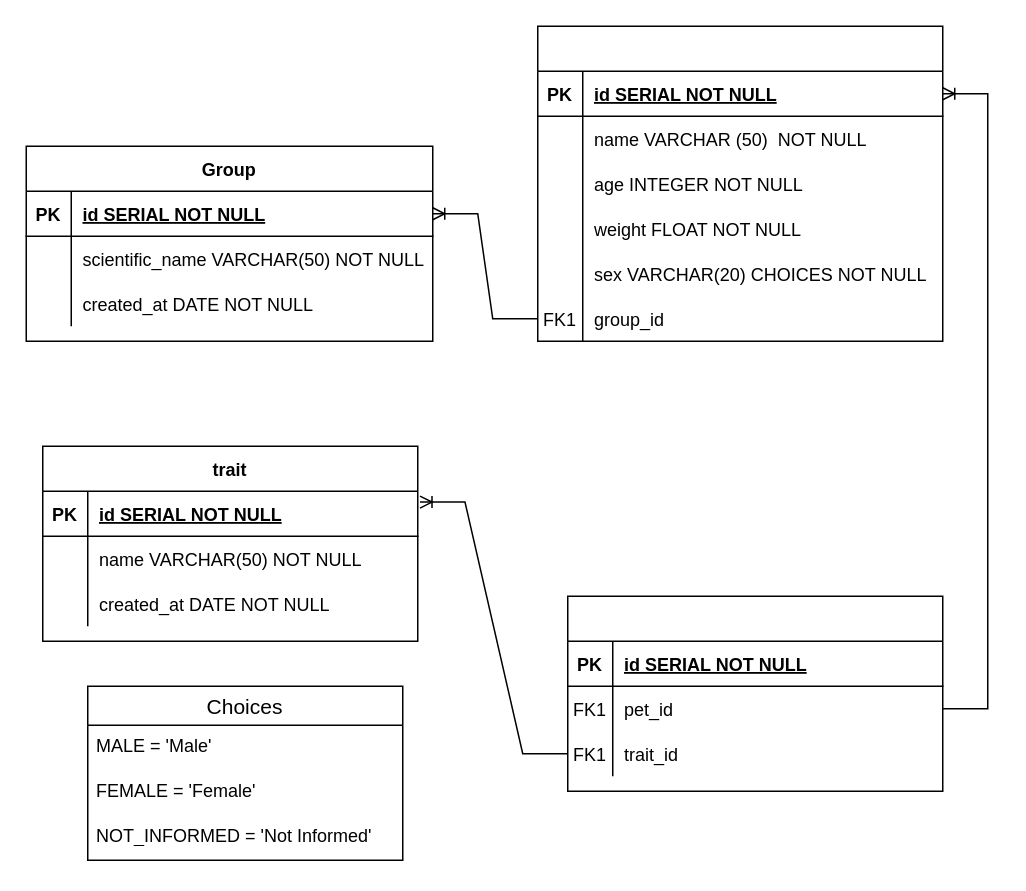
Image size: 1026x891. Some labels were removed from this diagram. The box of each missing label's shape, as (x1, y1, x2, y2) in pixels:
pets_pet: (536, 25, 943, 341)
traits_trait_pets: (566, 595, 943, 791)
